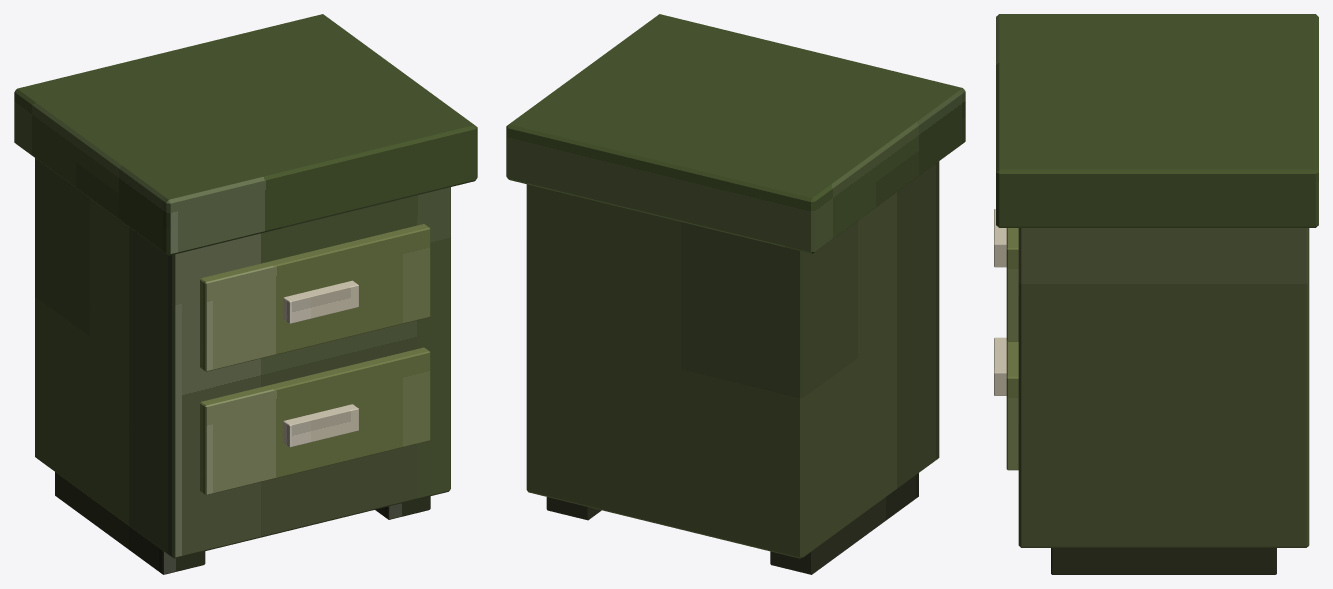
The model's file is bedroom_nightstand_olive.glb.
3 renders of one model, left to right at view 1: azimuth 30°, elevation 25°; view 2: azimuth 150°, elevation 25°; view 3: azimuth 270°, elevation 25°, orthographic. The views are drawn at different scales.
Visible parts, largest first — view 1: NightstandBody, NightstandTop, NightstandDrawer_2, NightstandDrawer_1, NightstandFoot_L, NightstandHandle_2, NightstandHandle_1, NightstandFoot_R; view 2: NightstandBody, NightstandTop, NightstandFoot_L, NightstandFoot_R; view 3: NightstandBody, NightstandTop, NightstandFoot_R, NightstandDrawer_2, NightstandDrawer_1, NightstandHandle_2, NightstandHandle_1.
Boxes of the visible parts, box(x1,y1,x2,y2) form: NightstandBody: box(35, 158, 450, 558); NightstandTop: box(14, 14, 477, 255); NightstandDrawer_2: box(200, 347, 430, 495); NightstandDrawer_1: box(200, 224, 430, 371); NightstandFoot_L: box(55, 472, 205, 574); NightstandHandle_2: box(283, 404, 358, 447); NightstandHandle_1: box(283, 280, 358, 323); NightstandFoot_R: box(375, 496, 430, 519); NightstandBody: box(526, 161, 939, 558); NightstandTop: box(506, 14, 965, 253); NightstandFoot_L: box(770, 473, 918, 574); NightstandFoot_R: box(546, 497, 601, 520); NightstandBody: box(1018, 228, 1309, 547); NightstandTop: box(996, 14, 1318, 227); NightstandFoot_R: box(1051, 548, 1276, 574); NightstandDrawer_2: box(1006, 341, 1018, 470); NightstandDrawer_1: box(1006, 228, 1018, 341); NightstandHandle_2: box(994, 337, 1006, 395); NightstandHandle_1: box(994, 209, 1006, 267).
Size of the model in its own units: 0.58 by 0.71 by 0.503.
Materials: 1 (1 with a texture image).
